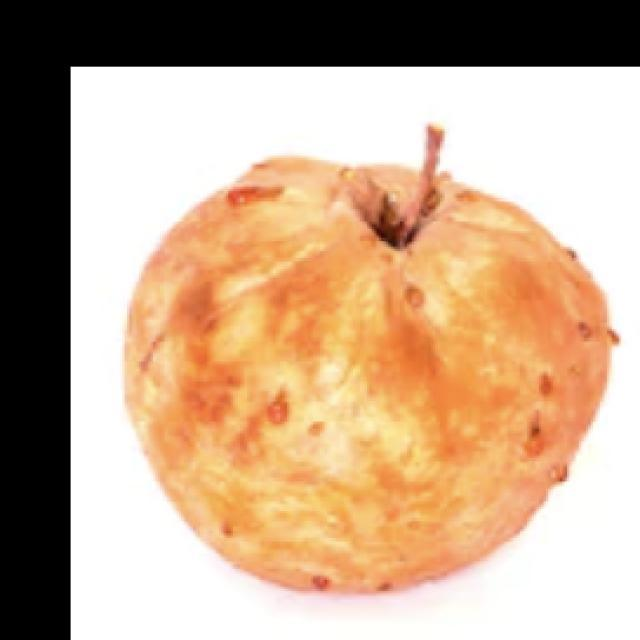Rotten: (117, 151, 615, 595)
